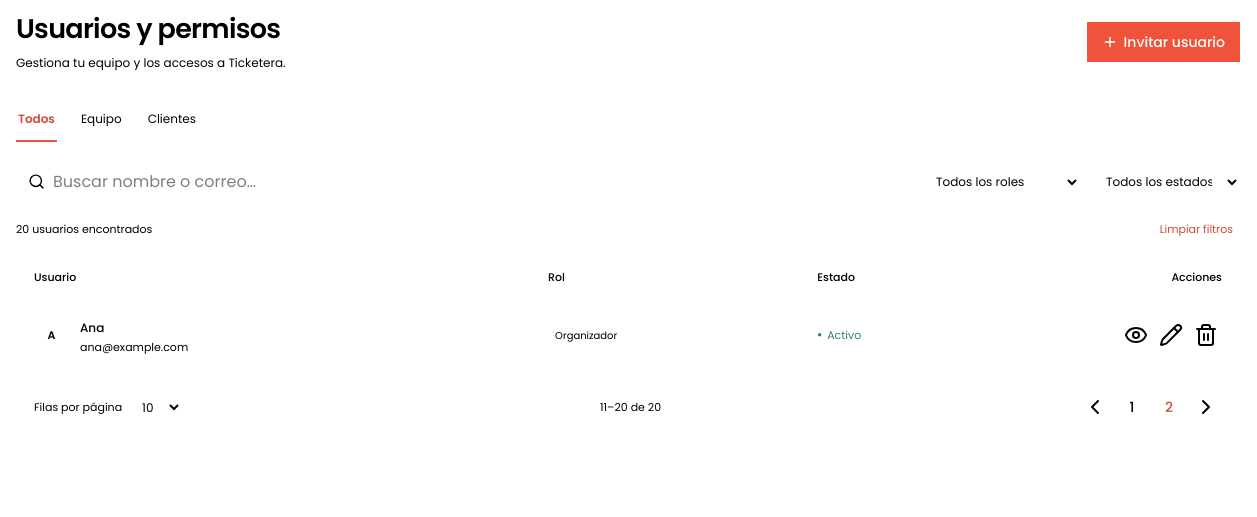
Test: filters on the server and returns to the first page when the search changes
In the search field: (463, 182) [16,162,910,202], type "Nobody"
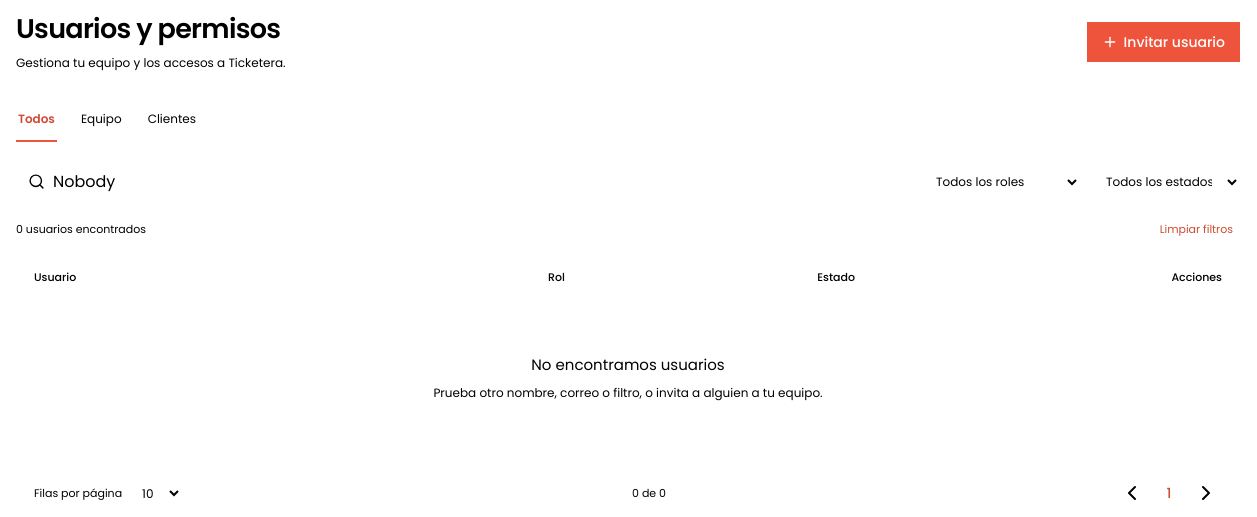
Check: the heading "No encontramos usuarios" is shown, box [531,354,725,375]
